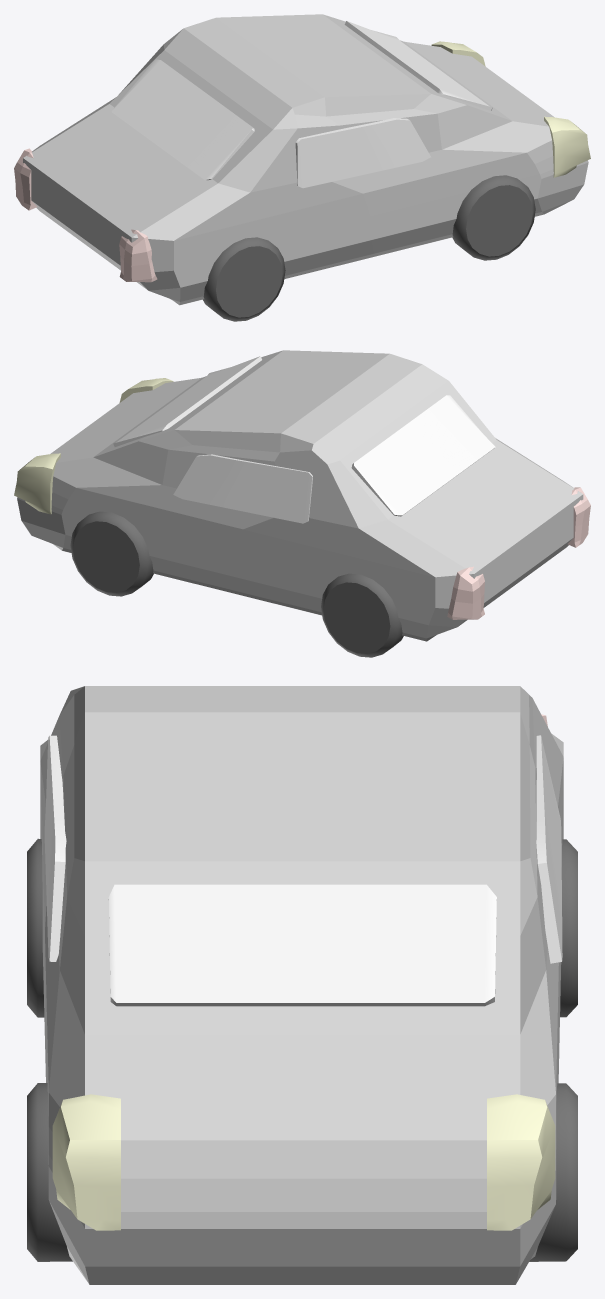
Rendered from CarroBlanco.fbx.
3 renders of one model, top to bottom at view 1: azimuth 30°, elevation 25°; view 2: azimuth 150°, elevation 25°; view 3: azimuth 270°, elevation 25°, orthographic. The views are drawn at different scales.
Visible parts, largest first — view 1: pCube1, pCube10, pCube8, pCylinder1, pCylinder2, pCube6, pCube11, pCube9; view 2: pCube1, pCube10, pCube12, pCylinder3, pCylinder4, pCube6, pCube11, pCube9; view 3: pCube1, pCube6, pCube9, pCylinder1, pCylinder3, pCube12, pCube8, pCylinder4, pCylinder2.
Part boxes in pixels (x1=…): pCube1: x1=23, y1=14, x2=588, y2=305; pCube10: x1=111, y1=59, x2=254, y2=180; pCube8: x1=295, y1=118, x2=430, y2=188; pCylinder1: x1=452, y1=175, x2=535, y2=260; pCylinder2: x1=203, y1=237, x2=285, y2=321; pCube6: x1=344, y1=21, x2=492, y2=110; pCube11: x1=14, y1=148, x2=157, y2=282; pCube9: x1=431, y1=41, x2=590, y2=177; pCube1: x1=17, y1=350, x2=583, y2=641; pCube10: x1=351, y1=395, x2=495, y2=516; pCube12: x1=173, y1=454, x2=312, y2=523; pCylinder3: x1=70, y1=511, x2=153, y2=596; pCylinder4: x1=321, y1=573, x2=403, y2=657; pCube6: x1=113, y1=356, x2=261, y2=446; pCube11: x1=447, y1=487, x2=590, y2=619; pCube9: x1=14, y1=378, x2=173, y2=514; pCube1: x1=40, y1=686, x2=563, y2=1284; pCube6: x1=108, y1=884, x2=496, y2=1006; pCube9: x1=52, y1=1094, x2=555, y2=1230; pCylinder1: x1=27, y1=1083, x2=72, y2=1261; pCylinder3: x1=529, y1=1083, x2=577, y2=1261; pCube12: x1=536, y1=735, x2=562, y2=963; pCube8: x1=44, y1=735, x2=66, y2=961; pCylinder4: x1=560, y1=839, x2=577, y2=1017; pCylinder2: x1=27, y1=838, x2=44, y2=1017.
Bounding box in the file's own units: 21.52 × 8.56 × 11.09.
